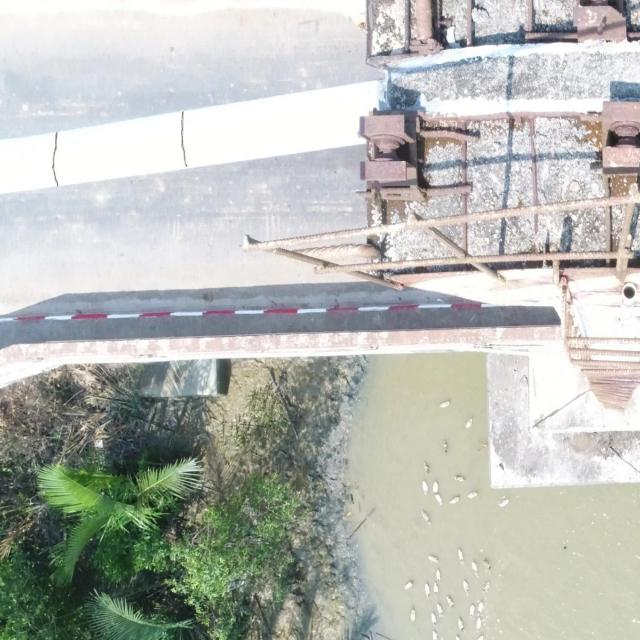crack: (178, 111, 188, 167), (51, 132, 59, 186)
